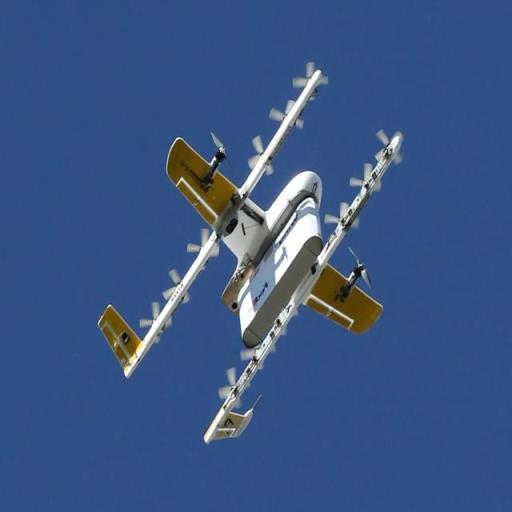uav: (74, 57, 420, 447)
